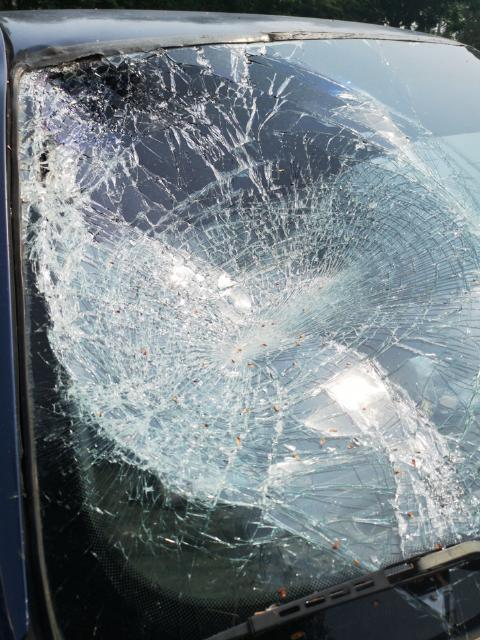Windshield: (40, 39, 480, 569)
